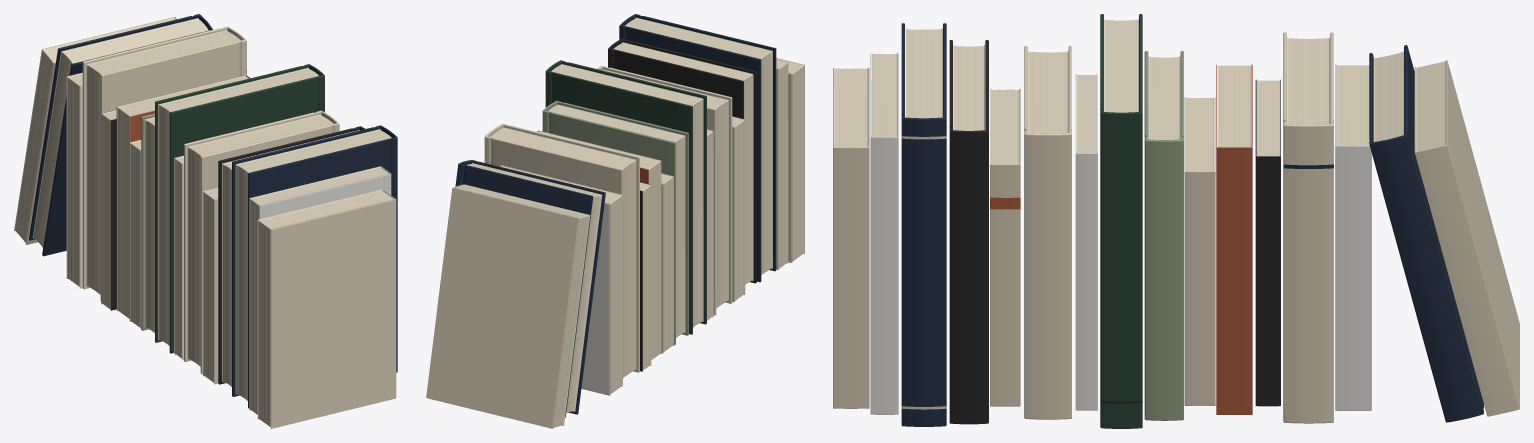
The model's file is books_low.fbx.
3 views of the same model, side by side, from view 1: azimuth 30°, elevation 25°; view 2: azimuth 150°, elevation 25°; view 3: azimuth 270°, elevation 25° (orthographic). The views are drawn at different scales.
Parts seen in each view (by area): view 1: books_low; view 2: books_low; view 3: books_low.
Boxes of the visible parts, <box> form: books_low: <box>14,14,397,428</box>; books_low: <box>426,14,804,428</box>; books_low: <box>833,14,1519,428</box>.
Size of the model in its own units: 0.1695 by 0.4887 by 0.2483.
